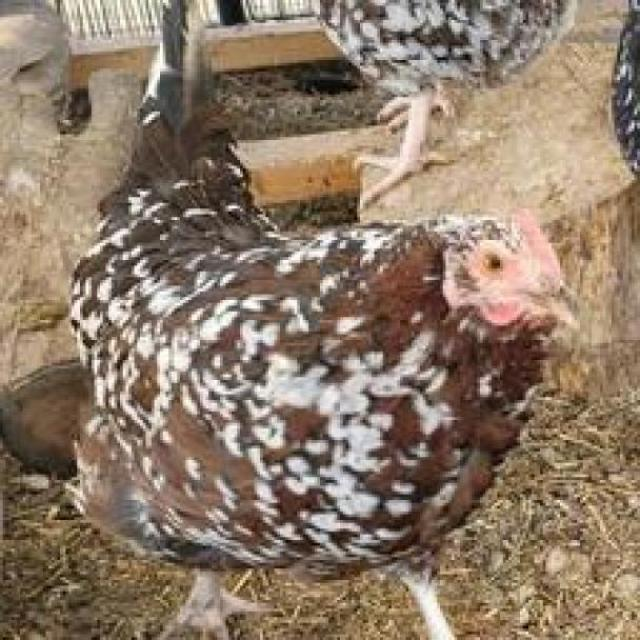Chicken: (65, 4, 589, 640)
